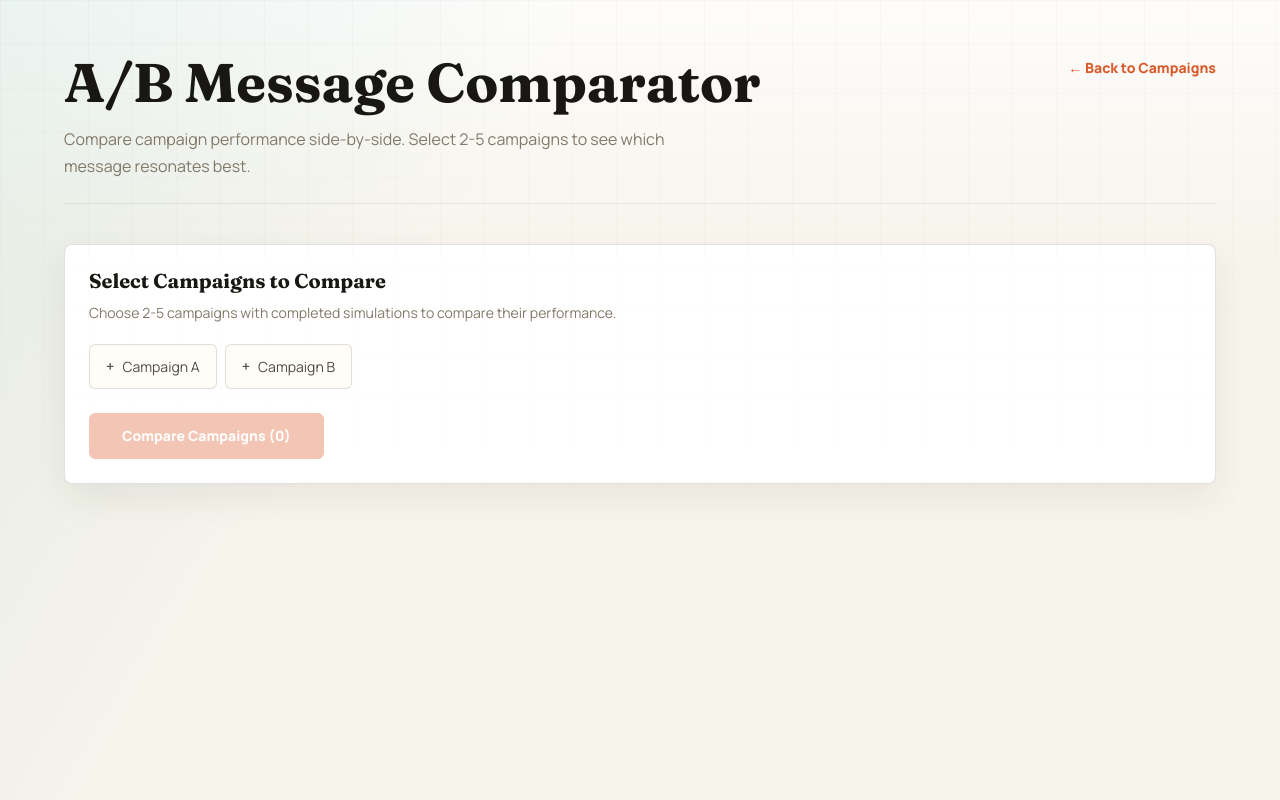
Comparator source labels › labels authenticated backend comparator output as Live Backend
Click the element with class "campaign-chip" showing "+ Campaign A". click: click(153, 366)
box: [89,344,217,389]
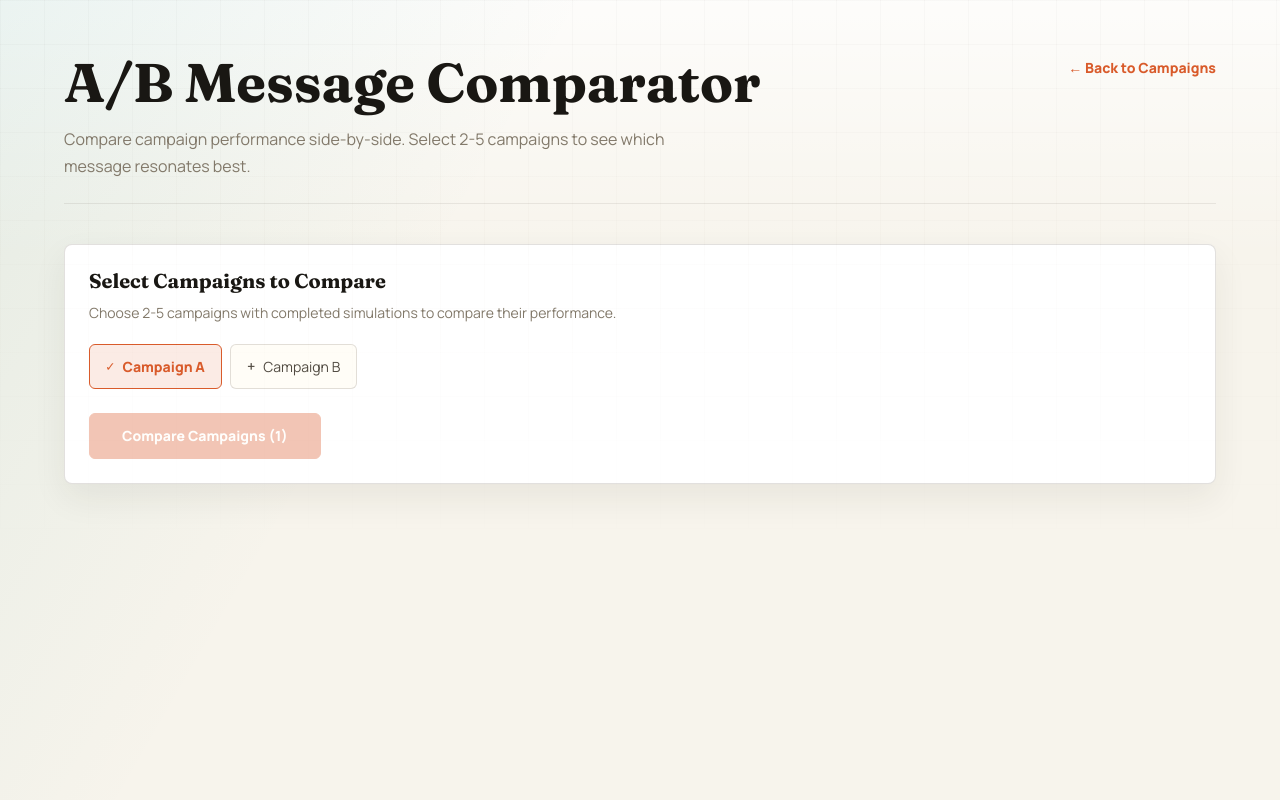
Click the element with class "campaign-chip" showing "+ Campaign B". click: click(294, 366)
box: [230,344,357,389]
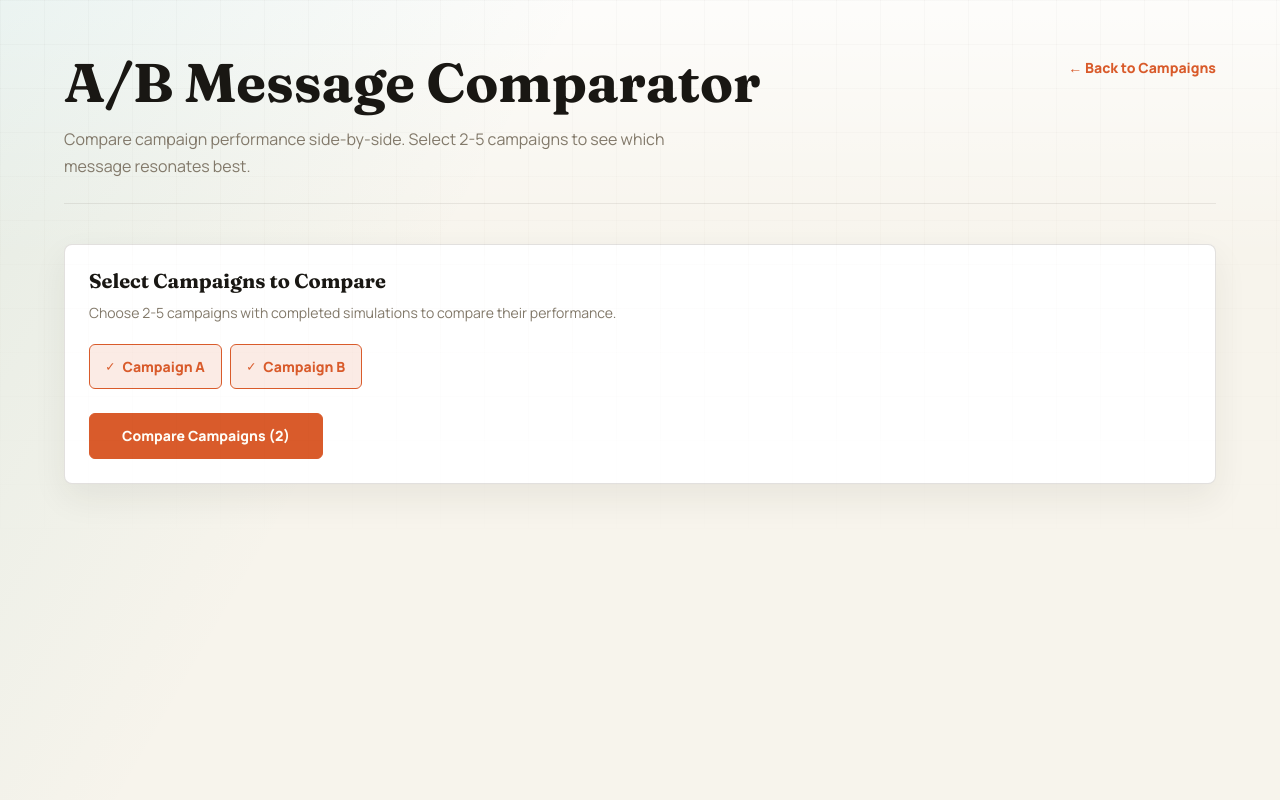
Click the button with class "btn-compare". click: click(206, 436)
box: [89,413,323,459]
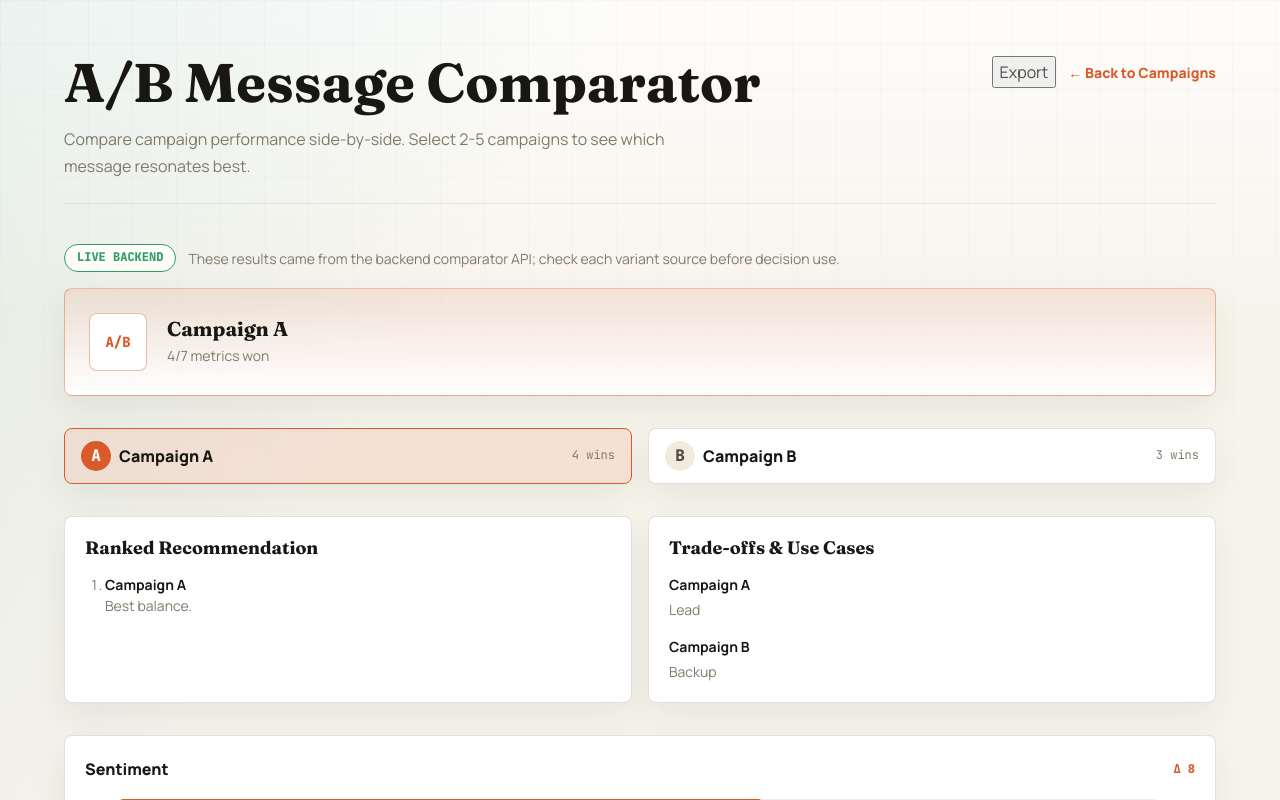
Result: the text "Live Backend" is shown at [64,244,176,272]
Result: the text "backend comparator API" is shown at [188,249,840,268]
